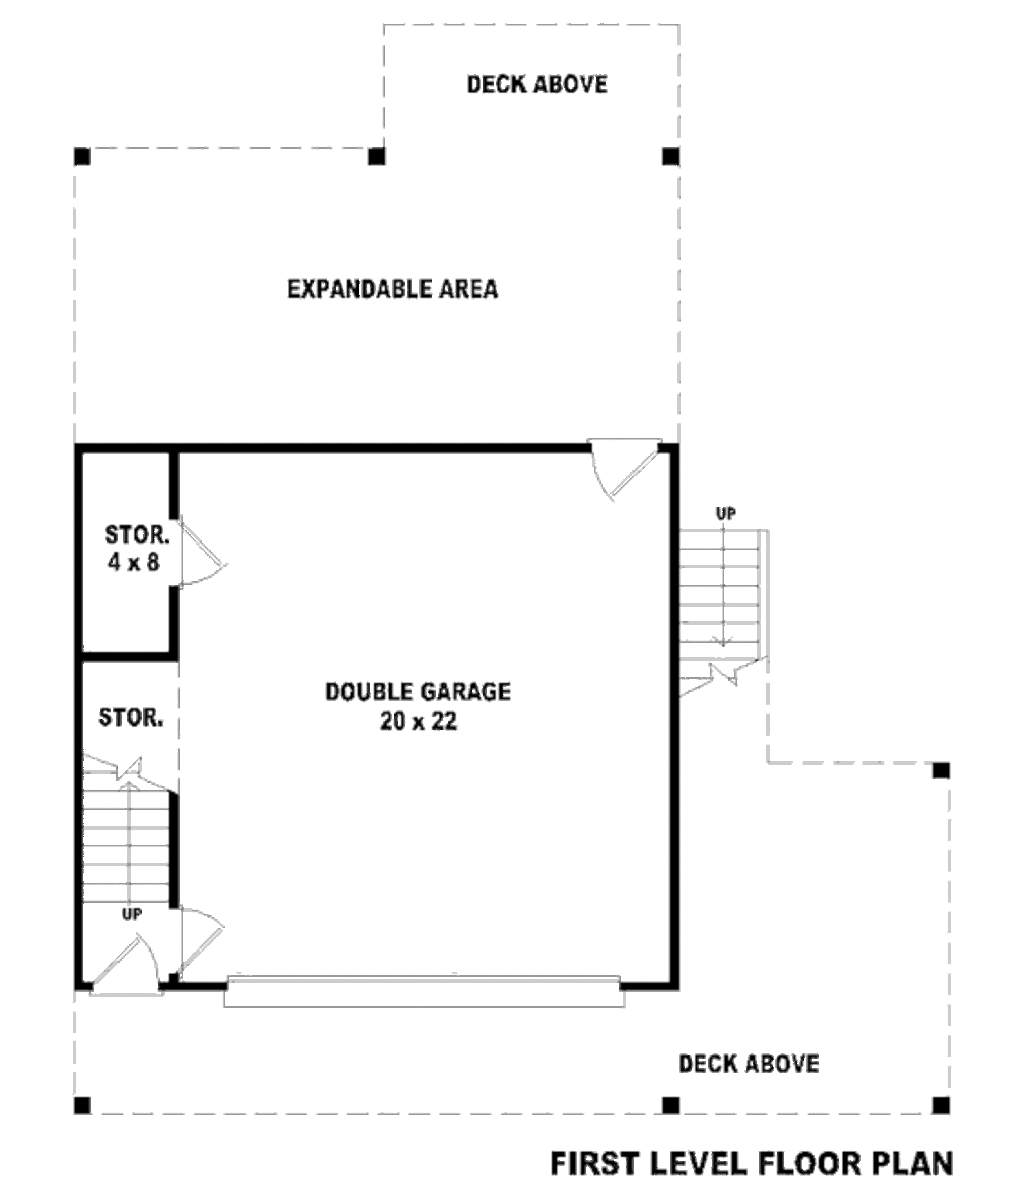door: (582, 436, 657, 494), (175, 901, 228, 979), (94, 937, 164, 993), (177, 518, 228, 589)
stairs: (676, 499, 772, 715), (78, 745, 180, 923)
